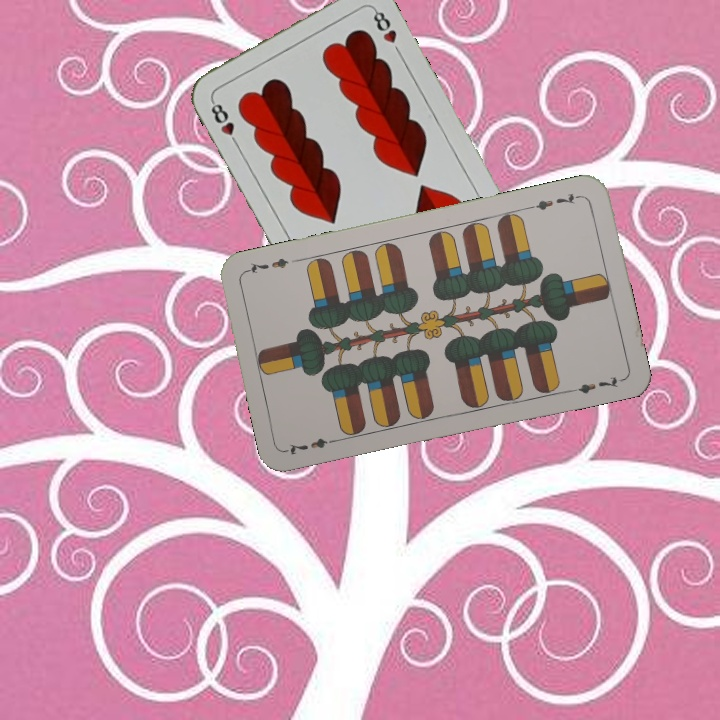E7: (526, 189, 585, 213), (283, 434, 342, 458)
H8: (206, 96, 242, 150)
